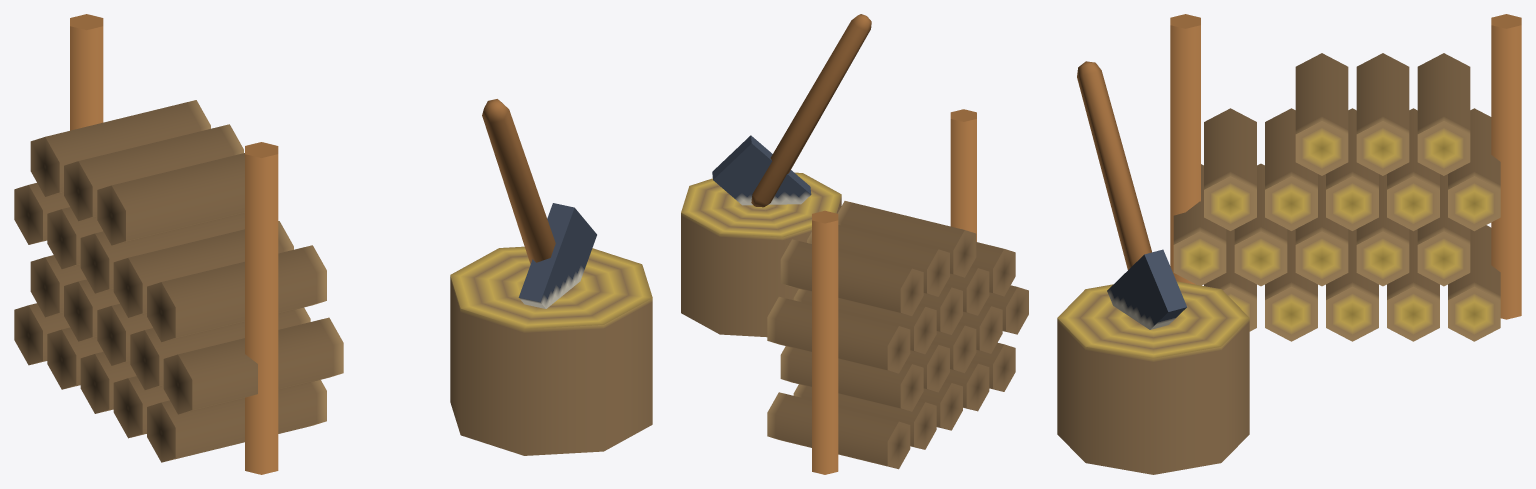
Rendered from prop_woodpile_ad78.glb.
3 views of the same model, side by side, from view 1: azimuth 30°, elevation 25°; view 2: azimuth 150°, elevation 25°; view 3: azimuth 270°, elevation 25° (orthographic). The views are drawn at different scales.
Parts seen in each view (by area): view 1: prop_woodpile_ad78; view 2: prop_woodpile_ad78; view 3: prop_woodpile_ad78.
Part boxes in pixels (x1,y1,x2,y2): prop_woodpile_ad78: [14, 14, 652, 474]; prop_woodpile_ad78: [681, 14, 1028, 474]; prop_woodpile_ad78: [1057, 14, 1521, 474].
Bounding box in the file's own units: 1.28 × 1.01 × 1.28.
Materials: 1 (1 with a texture image).
